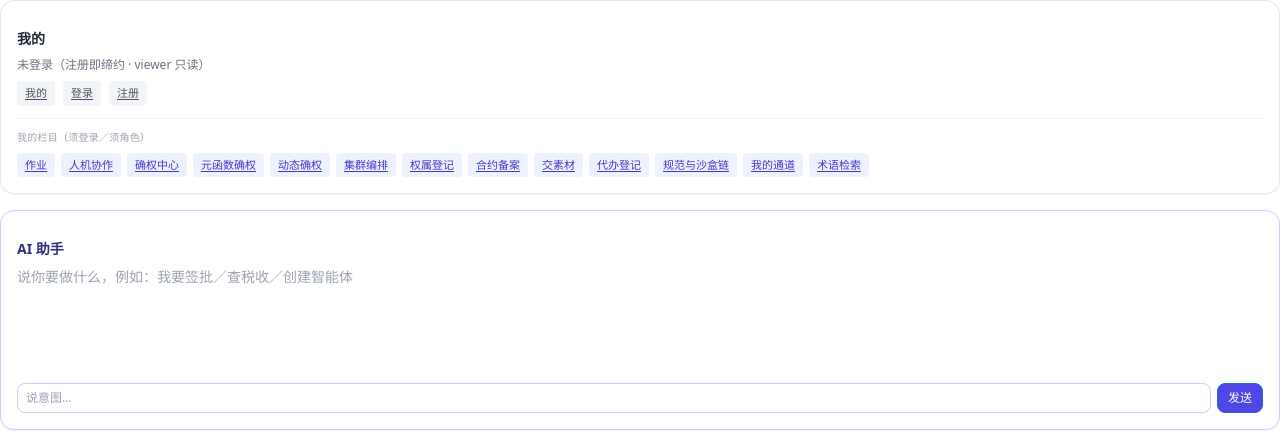
Test case: 二期改版批1：三栏骨架 › 助手框发问→命中时给出直达与步骤（真 AI／规则表由端点裁决）
Step 1. Type "我要签批" into the field with test id "assistant-input" → (614, 398), box [17,383,1211,413]
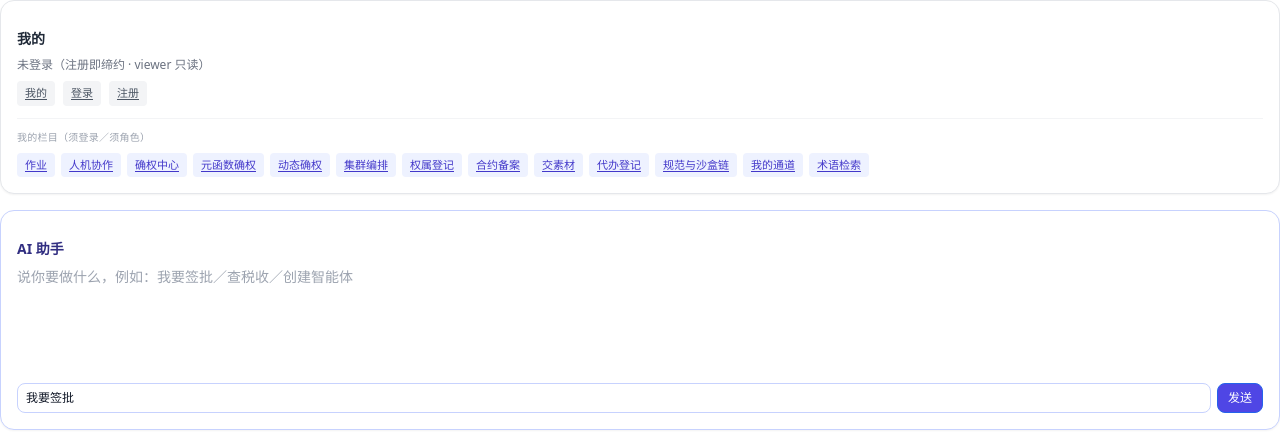
Step 2. Click the button with test id "assistant-send" → (1240, 398), box [1217,383,1263,413]
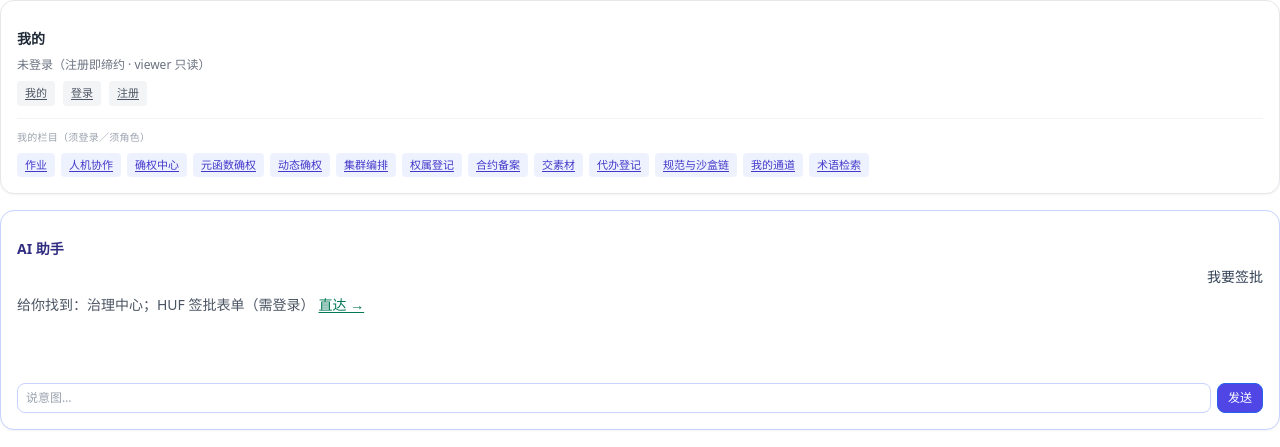
Result: the element with test id "assistant-msgs" shows "治理中心" at [17,295,314,314]
Result: the element with test id "assistant-msgs" shows "直达" at [318,295,364,314]
